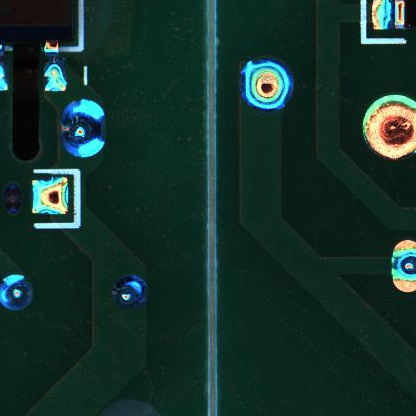spot: (239, 58, 295, 114), (60, 99, 108, 159), (109, 273, 150, 311), (390, 238, 416, 292), (1, 271, 35, 311)
